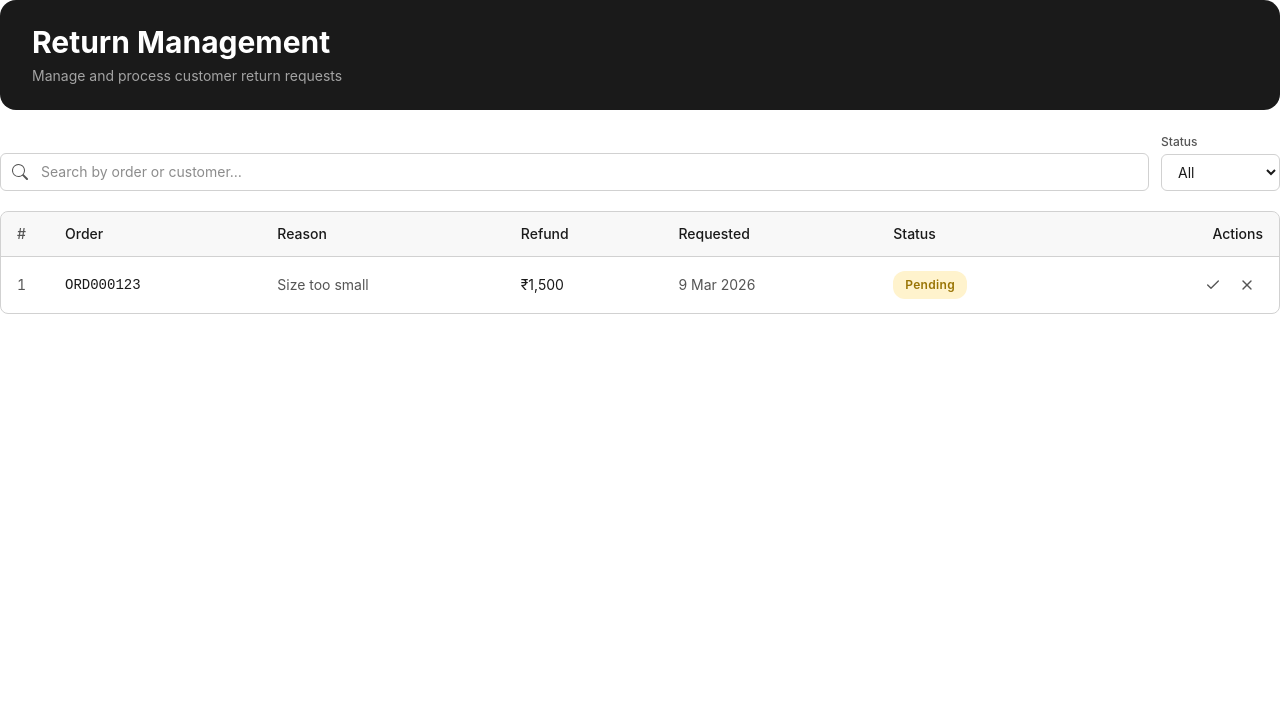
Test: AdminReturnsPage › requires a reason to reject, because the shopper is told it
What coordinates should you click on to do the following:
click the button named "reject return"
I would click on:
 (1247, 285)
Its box is x1=1231 y1=269 x2=1263 y2=301.
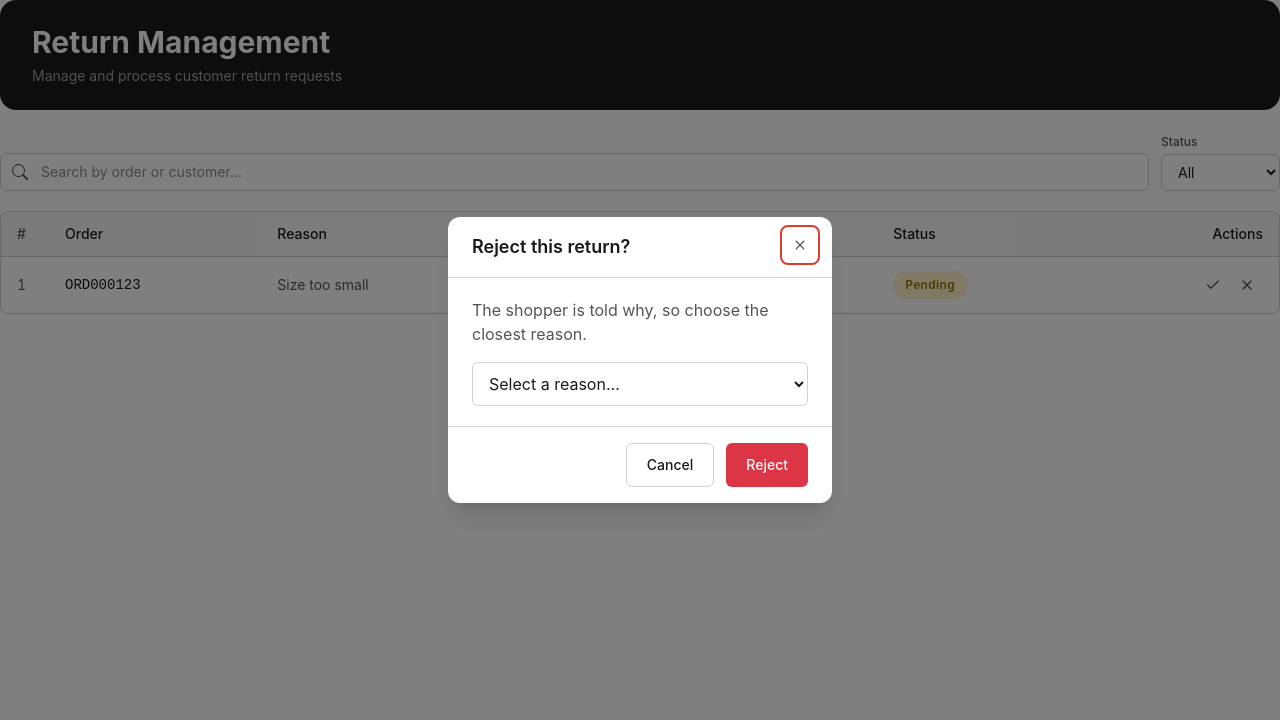
What coordinates should you click on to do the following:
click the button "Reject"
I would click on:
 (767, 465)
Its box is x1=726 y1=443 x2=808 y2=487.
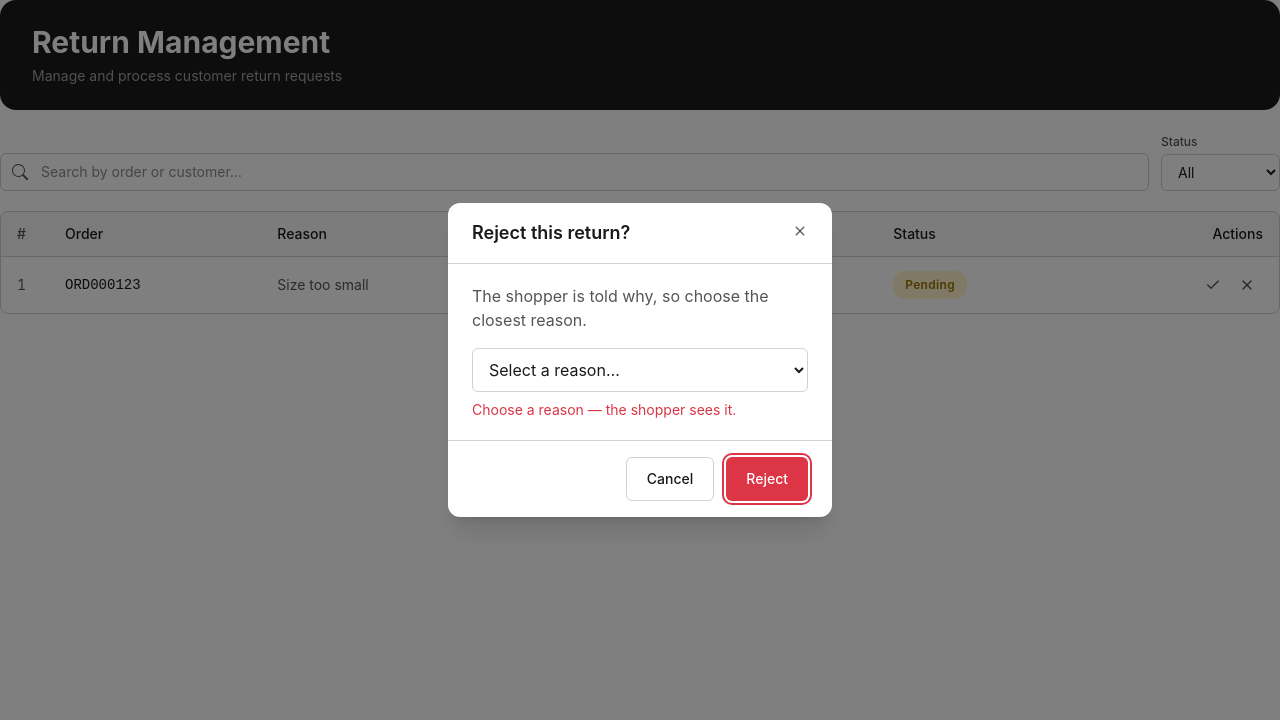
Now the message shows "Choose a reason", box x1=472 y1=401 x2=736 y2=418
